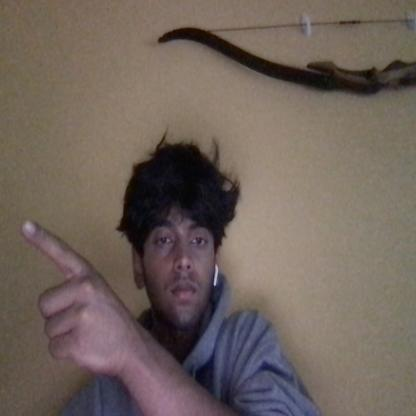finger_point: (1, 184, 58, 264)
